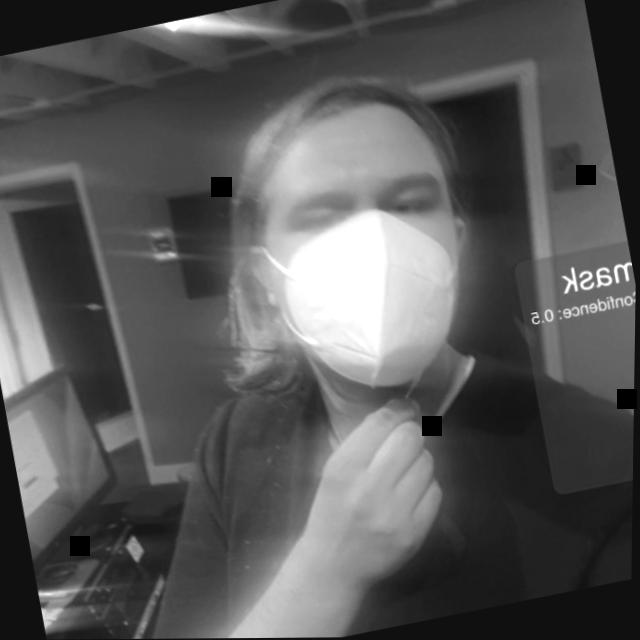Mask: (180, 43, 515, 436)
